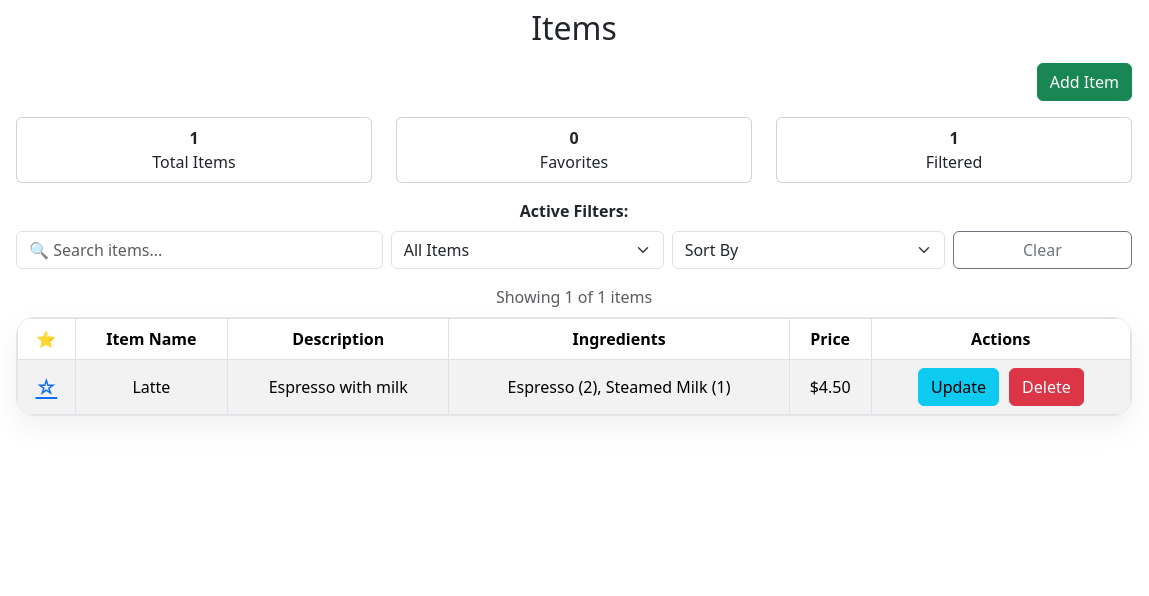
ListItemsComponent › staff delete action removes the item and refreshes the list
The image size is (1149, 596).
Click the button "Delete" at {"x": 1046, "y": 387}, box [1009,368,1084,406]
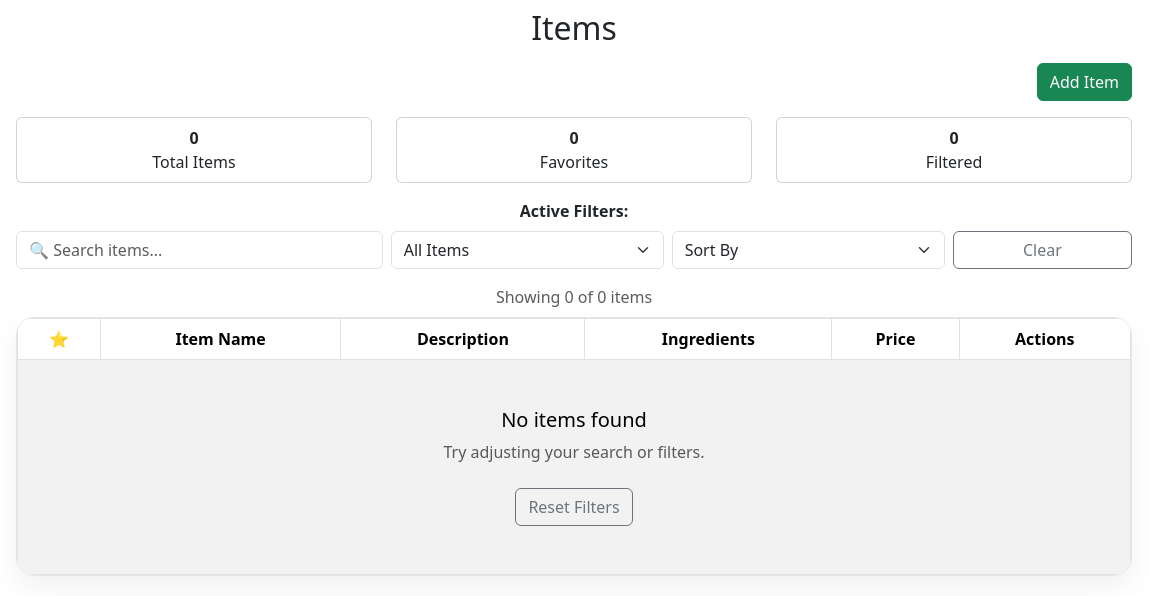
Check: the heading "No items found" is shown, box [501,406,647,433]
